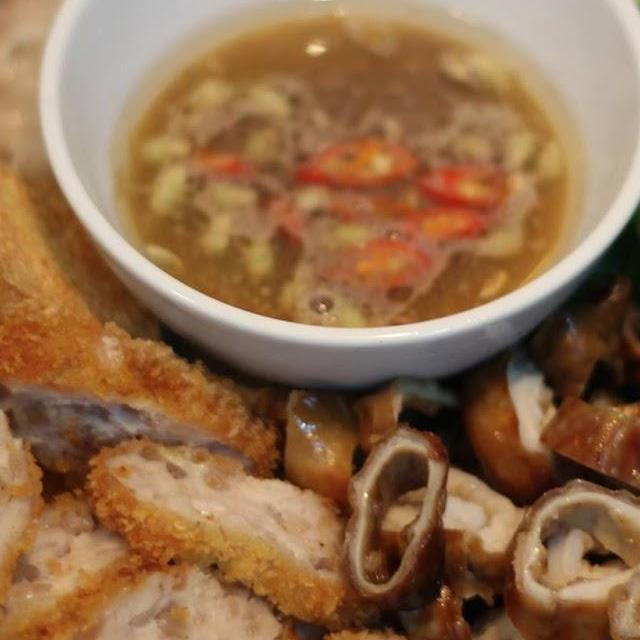cha com: (0, 298, 475, 640)
dau hu: (0, 124, 158, 356)
